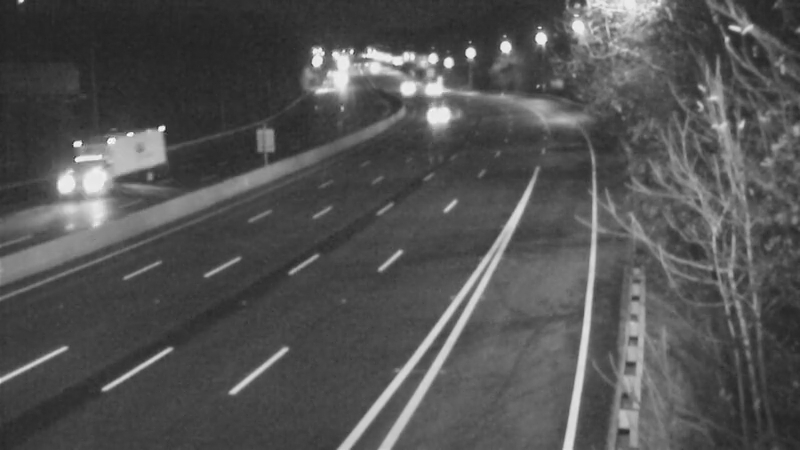vehicle: (57, 135, 137, 215), (384, 64, 434, 114), (407, 65, 457, 115), (417, 90, 467, 140)
